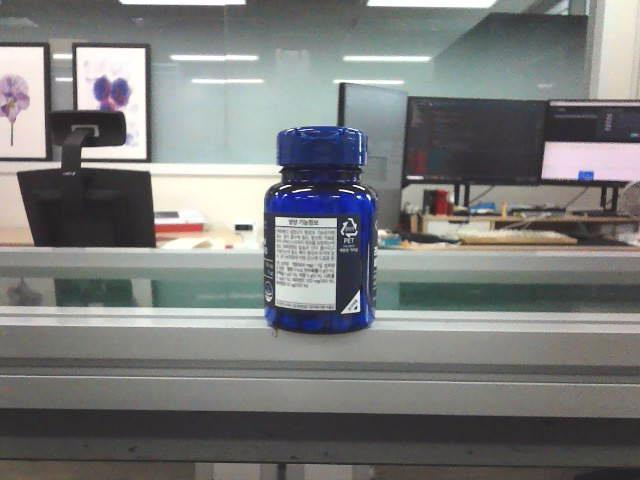labeled: (260, 119, 380, 336)
